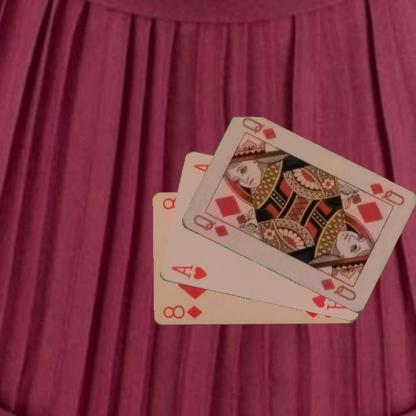8d: (160, 303, 203, 320)
Ah: (168, 262, 209, 282)
Qd: (360, 180, 406, 209), (190, 212, 230, 239)
